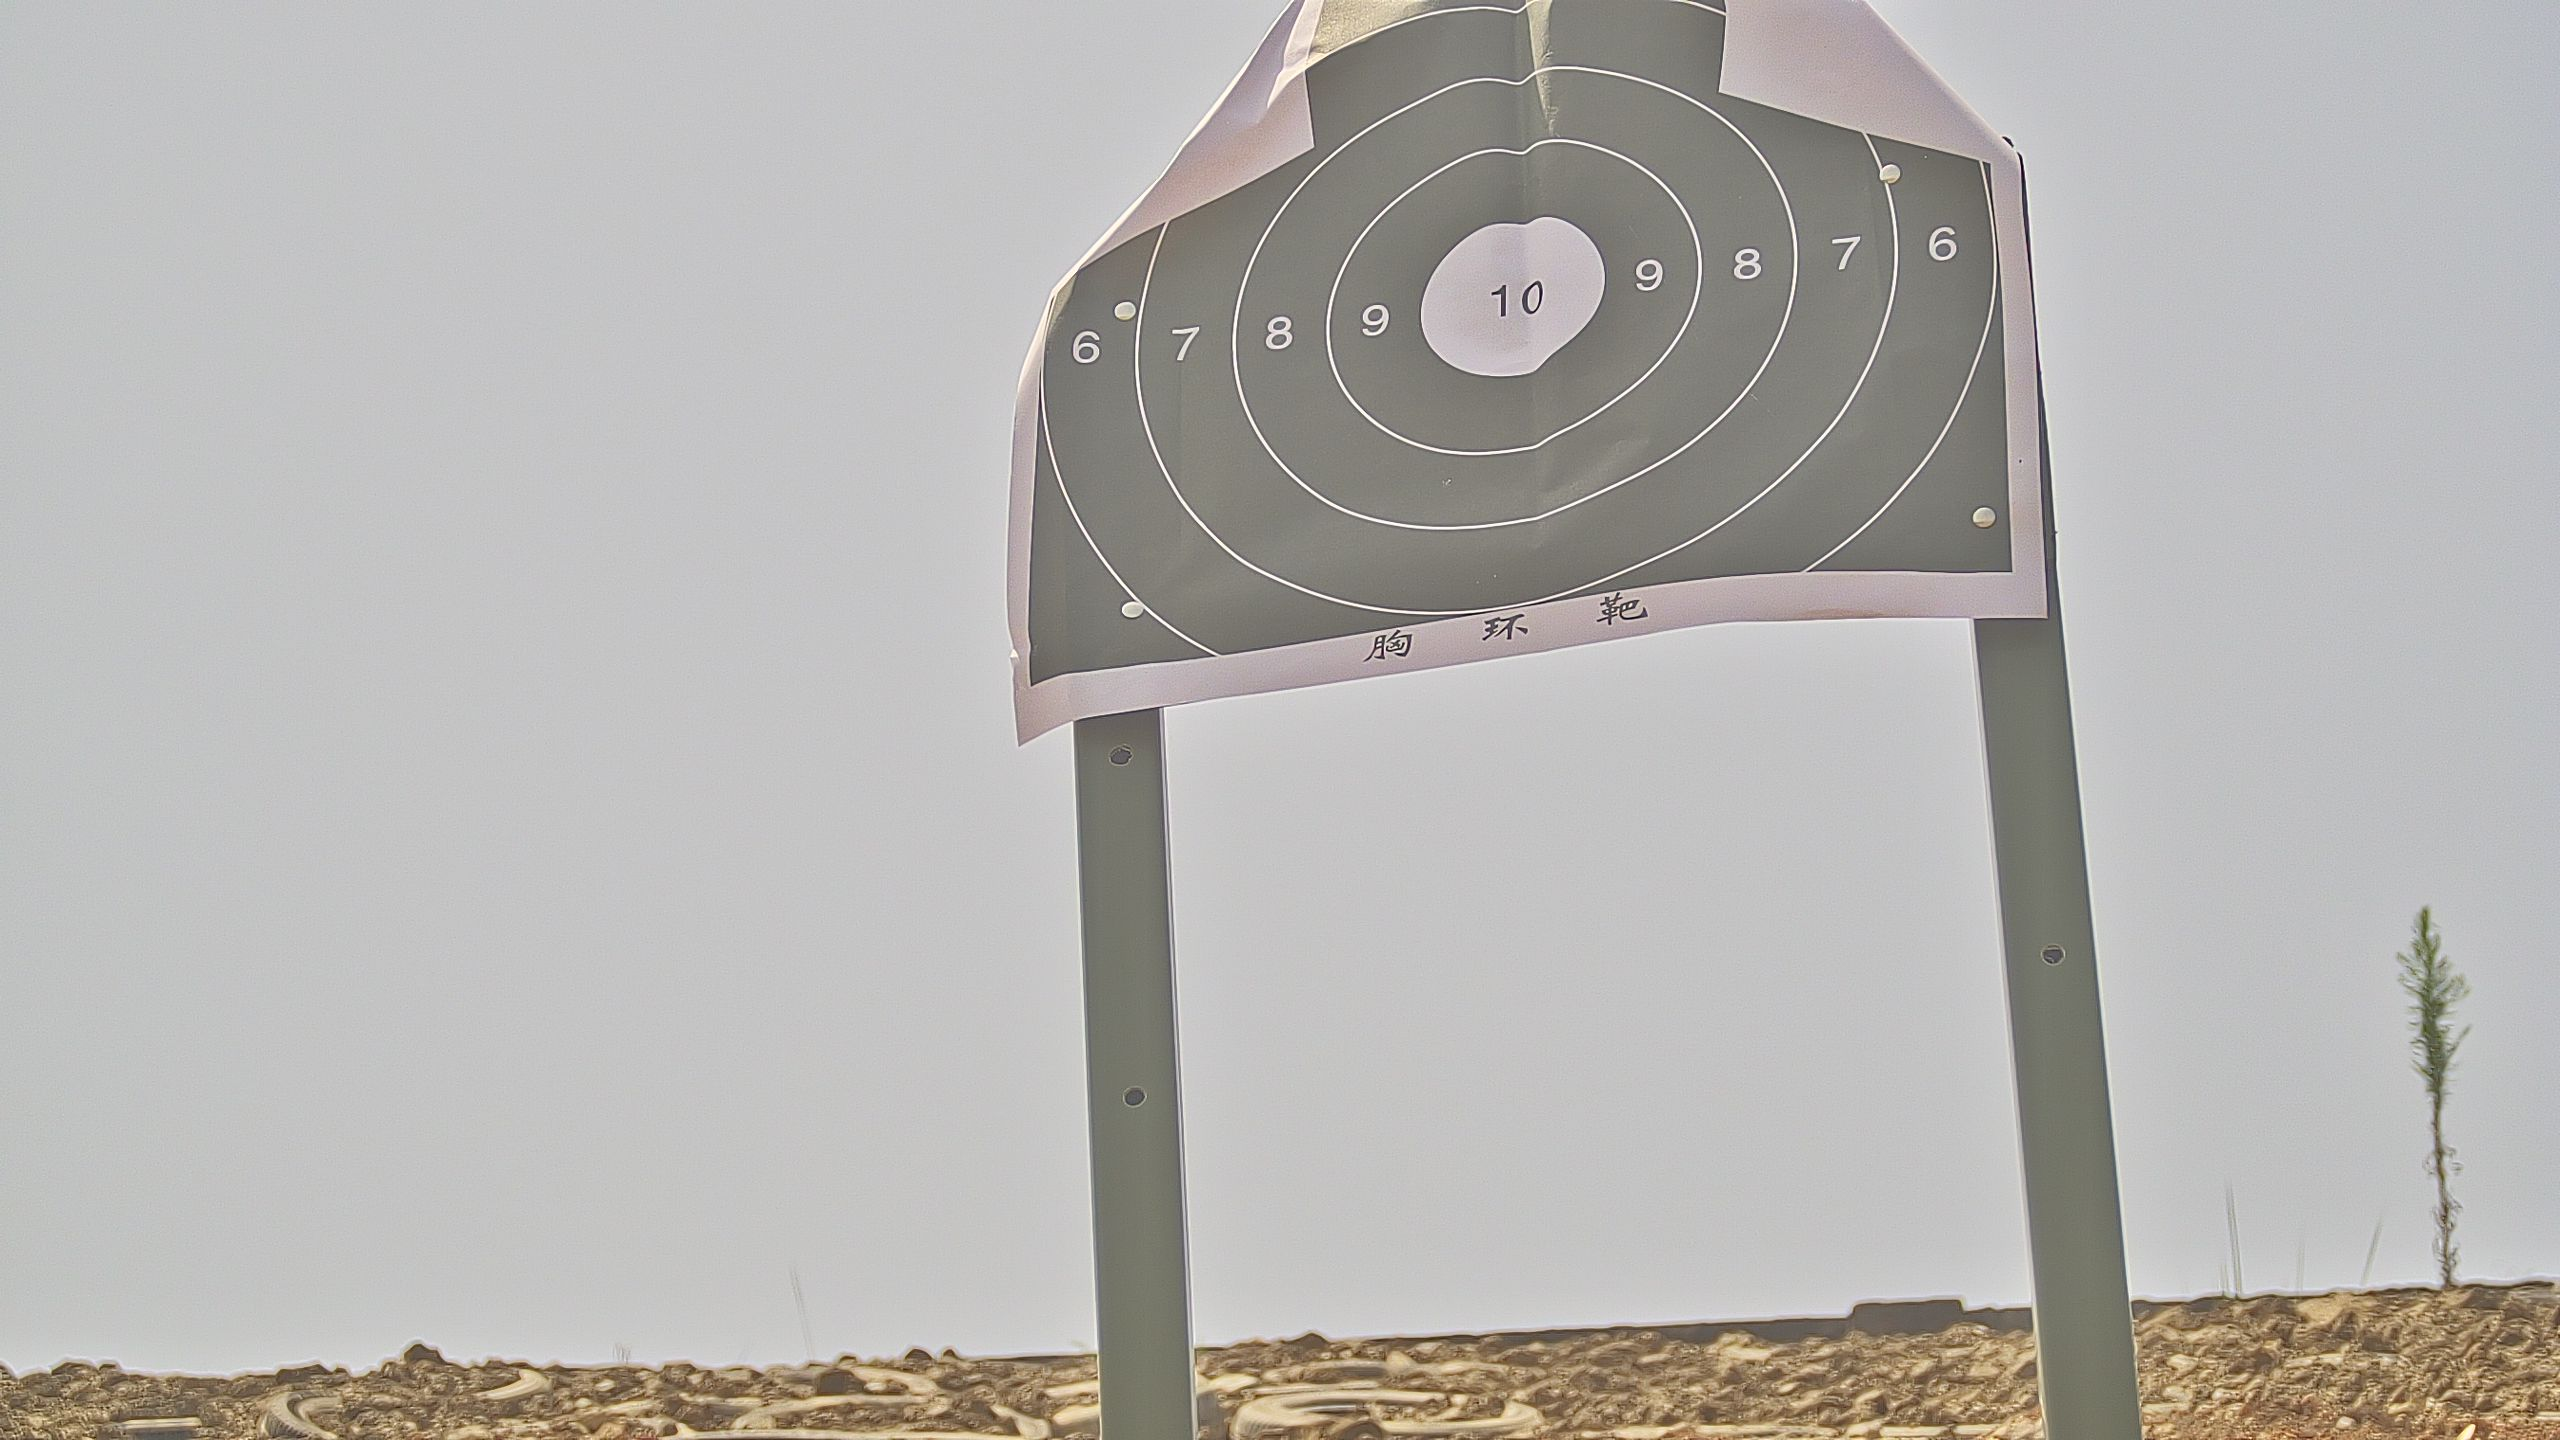kernel: (1512, 297, 1517, 304)
target: (1022, 2, 2017, 682)
ten: (1417, 209, 1612, 376)
